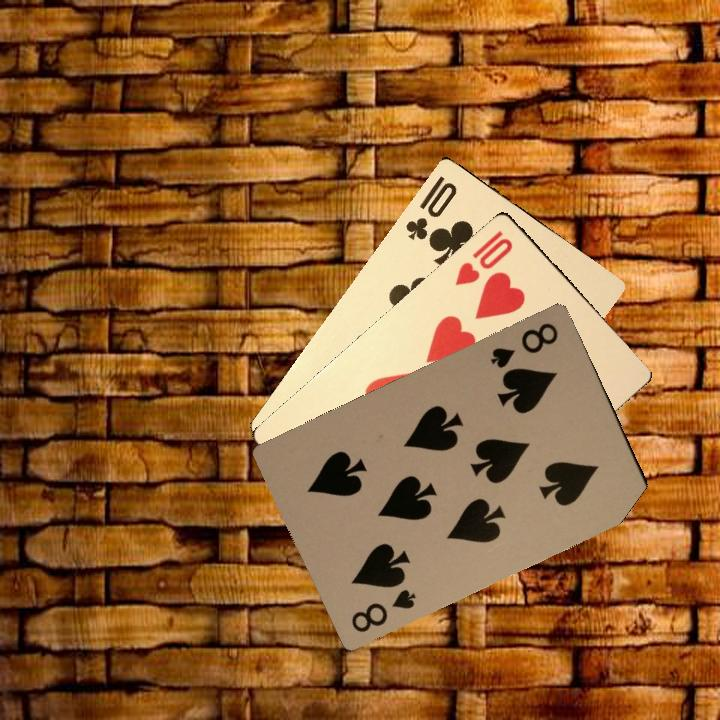10c: (401, 172, 460, 243)
10h: (451, 226, 516, 289)
8s: (486, 319, 561, 371), (347, 585, 419, 635)
